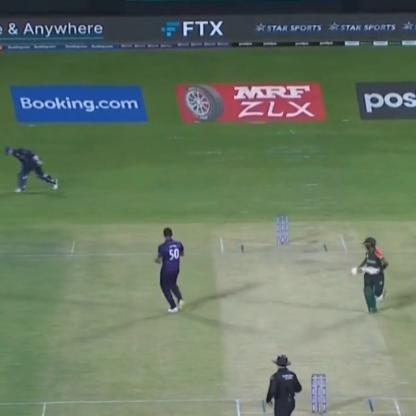pitch: (206, 220, 415, 416)
